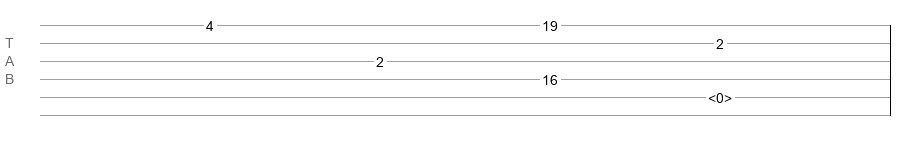16: (542, 72, 558, 82)
19: (542, 18, 558, 28)
2: (376, 54, 384, 64), (716, 36, 724, 46)
4: (206, 18, 214, 28)
harmonic: (708, 90, 732, 100)
